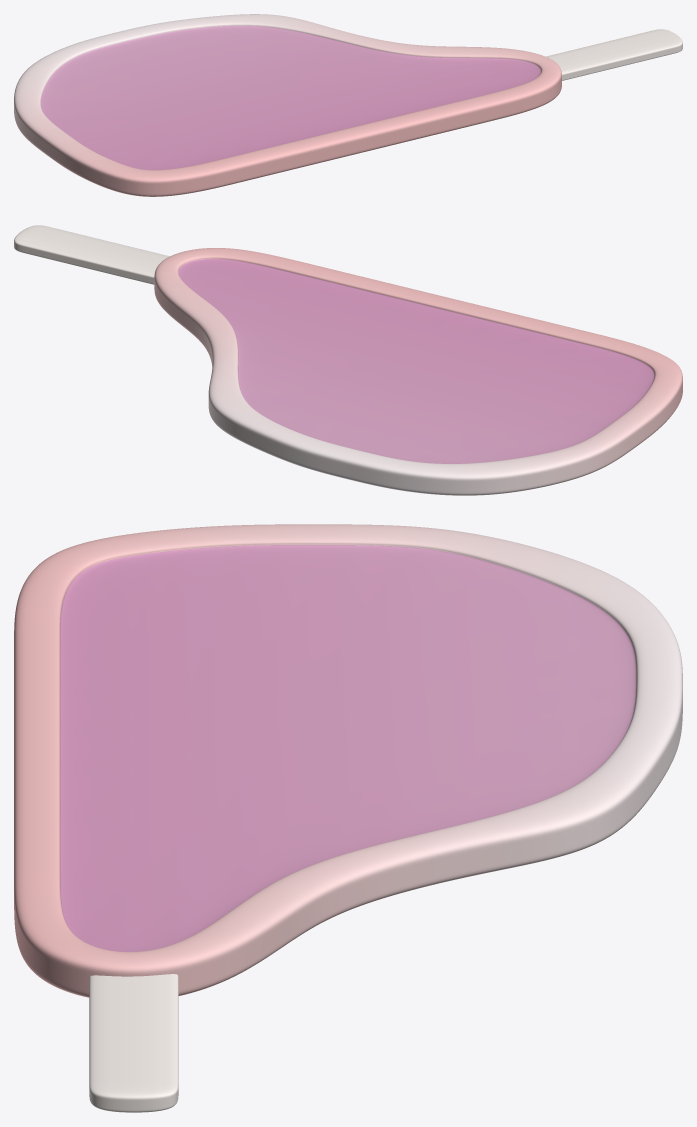
Rendered from HH_RawPork.fbx.
3 renders of one model, top to bottom at view 1: azimuth 30°, elevation 25°; view 2: azimuth 150°, elevation 25°; view 3: azimuth 270°, elevation 25°, orthographic. The views are drawn at different scales.
Visible parts, largest first — view 1: Top, Bottom; view 2: Top, Bottom; view 3: Top, Bottom.
Part boxes in pixels (x1=…): Top: x1=14, y1=14, x2=682, y2=188; Bottom: x1=14, y1=46, x2=682, y2=196; Top: x1=14, y1=225, x2=682, y2=486; Bottom: x1=14, y1=245, x2=682, y2=495; Top: x1=14, y1=524, x2=682, y2=1105; Bottom: x1=14, y1=704, x2=682, y2=1112.
Size of the model in its own units: 60 by 1.96 by 30.
1 material, 1 textured.
